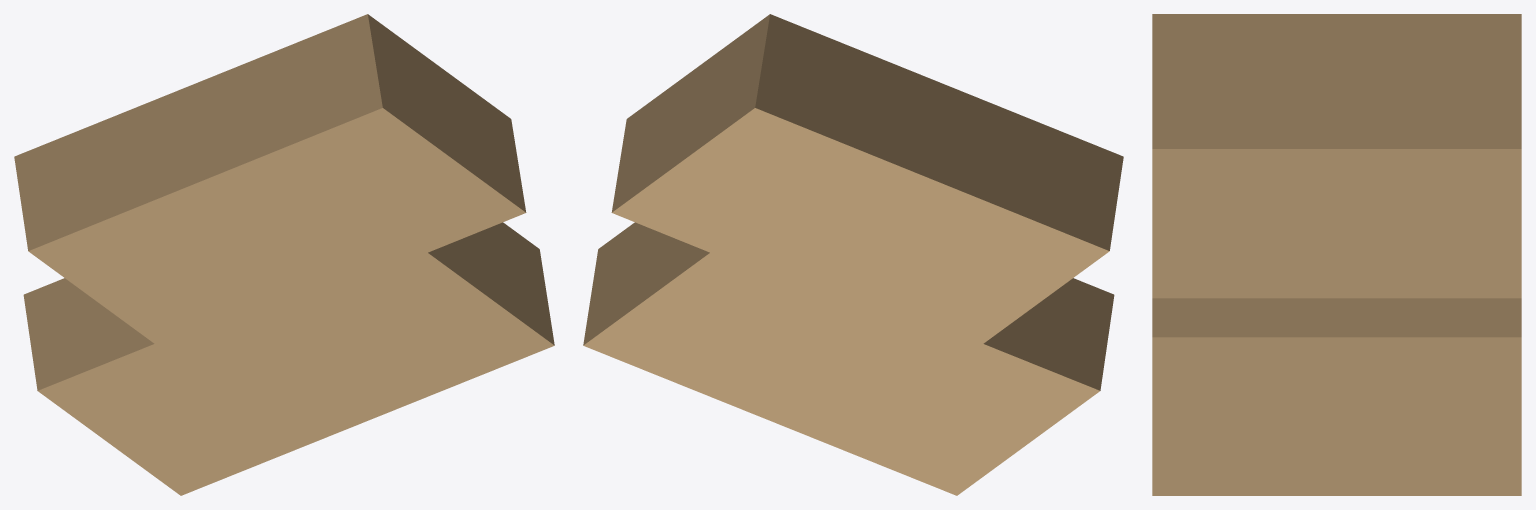
3 renders of one model, left to right at view 1: azimuth 30°, elevation 25°; view 2: azimuth 150°, elevation 25°; view 3: azimuth 270°, elevation 25°, orthographic. The views are drawn at different scales.
Parts seen in each view (by area): view 1: 0_0_3_2_0_1_0_3_1; view 2: 0_0_3_2_0_1_0_3_1; view 3: 0_0_3_2_0_1_0_3_1.
Boxes of the visible parts, <box> form: 0_0_3_2_0_1_0_3_1: <box>14,14,554,495</box>; 0_0_3_2_0_1_0_3_1: <box>583,14,1123,495</box>; 0_0_3_2_0_1_0_3_1: <box>1152,14,1521,495</box>.
Size of the model in its own units: 38.35 by 27.35 by 24.
